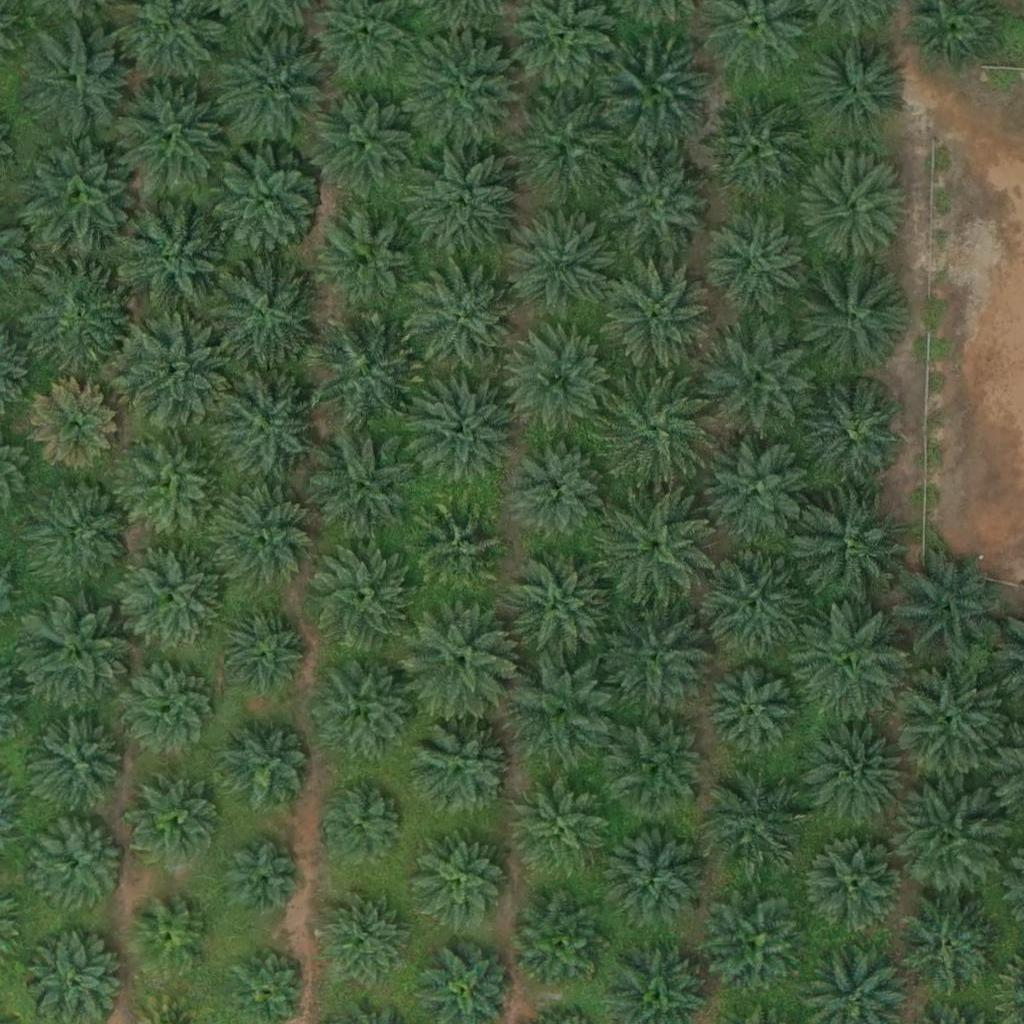Kelapa_Sawit: (408, 35, 521, 149), (507, 91, 620, 205), (508, 206, 621, 320), (894, 553, 1007, 667), (23, 25, 136, 138), (23, 139, 136, 252), (113, 80, 226, 193), (115, 206, 228, 319), (118, 316, 231, 429), (404, 148, 517, 261), (411, 266, 524, 379), (504, 325, 617, 438), (697, 91, 810, 204), (800, 30, 913, 143), (800, 153, 913, 266), (795, 265, 908, 378), (599, 492, 712, 605), (598, 597, 711, 710), (501, 546, 614, 659), (210, 369, 323, 482), (601, 146, 713, 260), (600, 263, 712, 377), (703, 324, 815, 438), (894, 659, 1006, 773), (797, 492, 909, 606), (24, 261, 136, 374), (217, 30, 329, 143), (211, 142, 323, 255), (206, 255, 318, 368), (310, 85, 422, 198), (307, 315, 419, 428), (601, 39, 713, 152), (595, 372, 707, 485), (891, 784, 1003, 897), (794, 606, 906, 719), (698, 551, 810, 664), (507, 653, 619, 766), (405, 602, 517, 715), (304, 541, 416, 654), (700, 436, 812, 549), (404, 369, 516, 482), (308, 428, 420, 541), (26, 604, 138, 717), (319, 208, 419, 309), (899, 900, 999, 1001), (805, 723, 905, 824), (806, 836, 906, 937), (705, 768, 805, 869), (707, 894, 807, 995), (613, 718, 713, 819), (607, 826, 707, 927), (514, 775, 614, 876), (513, 892, 613, 993), (412, 717, 512, 818), (411, 833, 511, 934), (315, 661, 415, 762), (212, 483, 312, 584), (123, 434, 223, 535), (32, 480, 132, 581), (706, 211, 806, 311), (805, 384, 905, 484), (122, 546, 222, 646), (120, 657, 220, 757), (30, 814, 130, 914), (415, 503, 503, 592), (133, 777, 221, 865), (30, 381, 118, 469), (36, 717, 124, 805), (707, 670, 794, 758), (318, 777, 405, 865), (320, 889, 407, 977), (217, 607, 304, 695), (223, 726, 310, 814), (516, 446, 603, 534), (133, 902, 208, 978), (223, 841, 298, 917)
